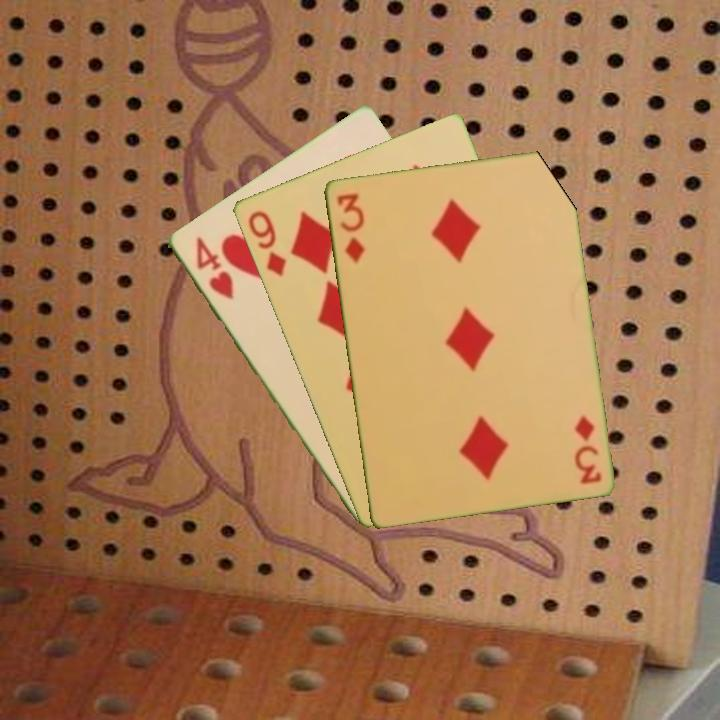3d: (333, 189, 367, 266), (570, 411, 604, 487)
4h: (191, 233, 236, 302)
9d: (244, 207, 289, 280)
